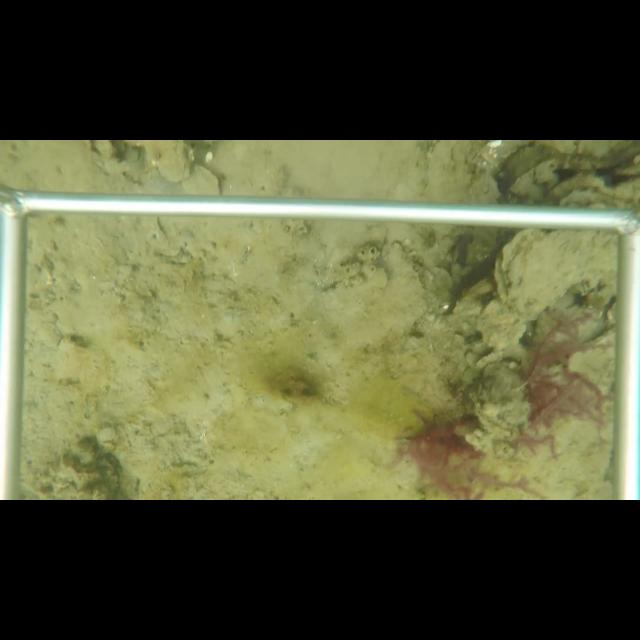Oyster-Closed: (474, 228, 617, 352)
